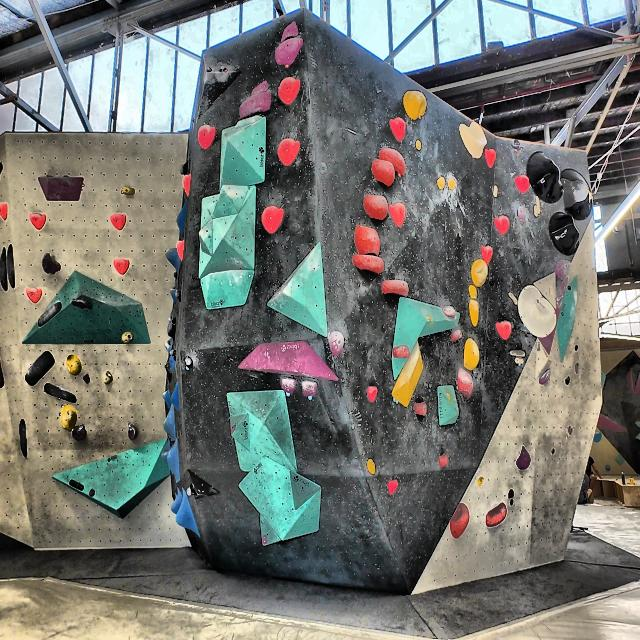Hold: (240, 342, 340, 378), (537, 279, 570, 356), (560, 163, 598, 226), (517, 285, 554, 338), (528, 150, 562, 206), (37, 170, 89, 205), (547, 209, 582, 257), (178, 488, 203, 542), (23, 348, 57, 387), (459, 117, 486, 162), (448, 501, 472, 544), (376, 146, 409, 177), (533, 270, 560, 307), (271, 41, 310, 65), (43, 381, 79, 405), (354, 224, 382, 254), (236, 95, 275, 116), (277, 77, 304, 106), (353, 254, 387, 276), (261, 206, 286, 235), (363, 192, 387, 222), (372, 156, 394, 188), (403, 90, 427, 119), (38, 300, 61, 330), (58, 401, 78, 435), (197, 120, 218, 152), (463, 336, 482, 371), (169, 438, 182, 486), (277, 138, 300, 165), (173, 198, 189, 236), (164, 246, 180, 282), (381, 278, 411, 297), (486, 500, 506, 528), (515, 442, 533, 473), (64, 350, 85, 376), (471, 257, 489, 287), (280, 20, 304, 42), (39, 252, 63, 274), (464, 298, 481, 328), (18, 416, 29, 462), (390, 201, 408, 229), (388, 118, 408, 142), (158, 436, 174, 466), (164, 405, 176, 444), (458, 367, 473, 398), (496, 319, 513, 346), (554, 256, 572, 281), (169, 484, 183, 516), (23, 283, 44, 304), (494, 209, 511, 234), (6, 238, 14, 290), (175, 158, 195, 178), (71, 296, 93, 314), (178, 174, 196, 196), (110, 208, 128, 230), (330, 330, 345, 356), (300, 380, 320, 399), (71, 422, 89, 443), (113, 258, 132, 277), (438, 302, 458, 320), (512, 174, 530, 194), (278, 375, 298, 393), (28, 212, 46, 232), (171, 382, 183, 411), (126, 419, 139, 445), (479, 242, 494, 264), (249, 80, 272, 94), (0, 245, 6, 297), (531, 192, 543, 217), (390, 343, 409, 358), (388, 476, 401, 497), (68, 476, 84, 493), (0, 357, 8, 391), (413, 400, 428, 418), (485, 147, 497, 169), (174, 240, 185, 264), (186, 480, 198, 501), (160, 385, 172, 405), (538, 369, 552, 386), (117, 333, 136, 345), (162, 336, 174, 355), (365, 384, 376, 404), (365, 455, 375, 477), (166, 316, 176, 338), (80, 369, 92, 387), (176, 281, 185, 304), (509, 347, 526, 359), (166, 354, 177, 372), (164, 288, 178, 302), (121, 184, 135, 198), (511, 139, 526, 152), (0, 205, 12, 221), (261, 531, 272, 548), (182, 354, 194, 369), (101, 372, 112, 387), (468, 283, 478, 299), (451, 329, 463, 342), (440, 452, 449, 468), (516, 206, 526, 220), (165, 307, 175, 321), (447, 176, 456, 191), (514, 358, 527, 368), (436, 175, 444, 191), (230, 423, 239, 437), (414, 138, 422, 151), (220, 65, 230, 75), (574, 362, 582, 373), (564, 377, 572, 388), (567, 422, 573, 436), (506, 488, 514, 497), (509, 498, 516, 507), (89, 491, 99, 497), (550, 447, 556, 456), (207, 66, 216, 72), (0, 162, 6, 171), (573, 344, 579, 351), (568, 285, 572, 291)
